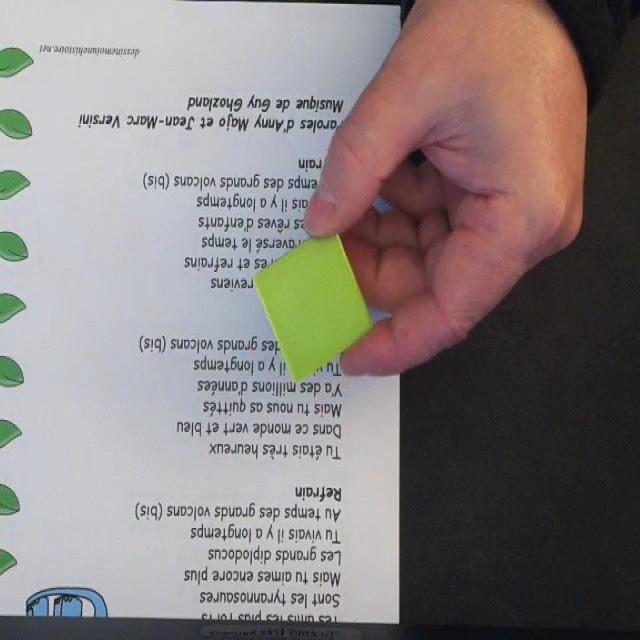square: (252, 226, 377, 382)
